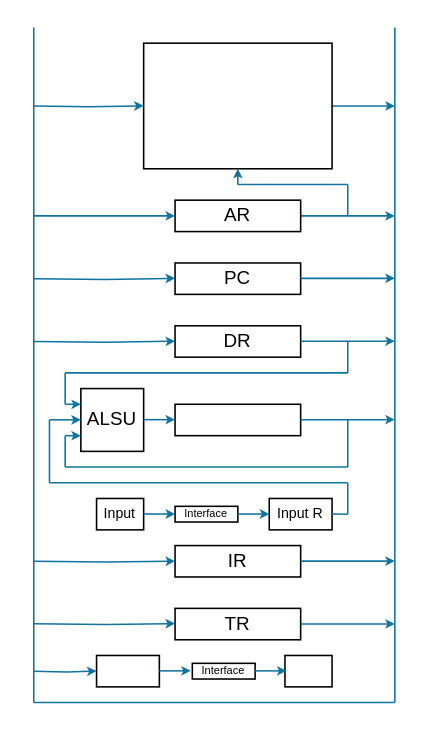
The diagram is 430 pixels wide and 732 high, and some of its shapes have lost their labels. The shapes that lost their labels are listed below. From the top down, each one's box as (x1, y1, x2, y2) in pixels, then its label:
(142, 42, 332, 169): Memory in 4096 x 16 bit out Address
(173, 403, 301, 436): AC
(95, 654, 159, 687): Output R
(283, 654, 332, 687): Output
